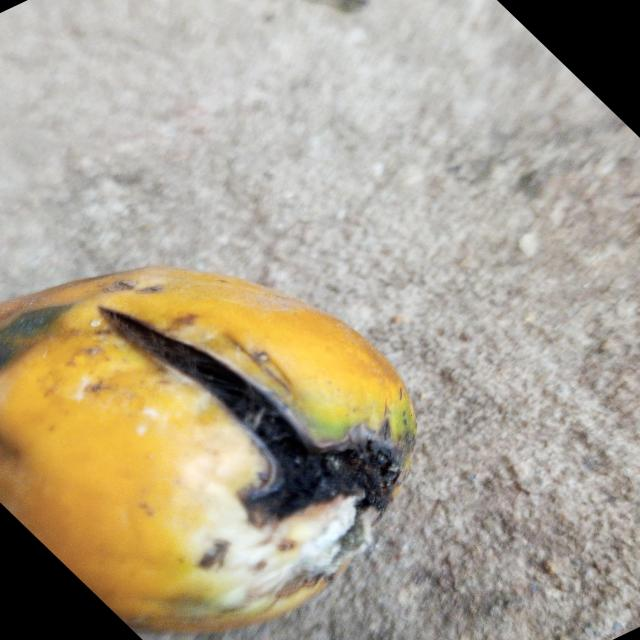damaged: (0, 267, 416, 633)
